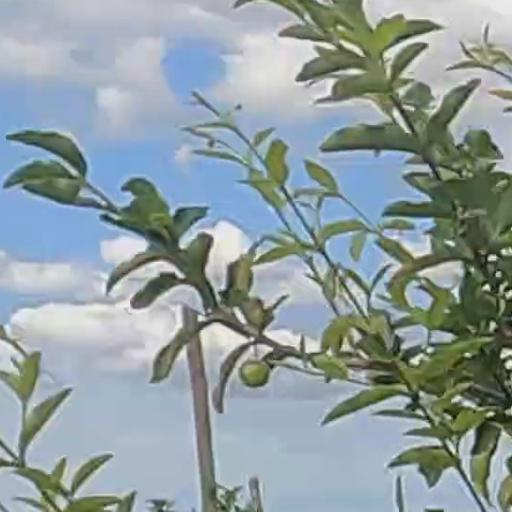acerola_verde: (241, 363, 270, 386)
